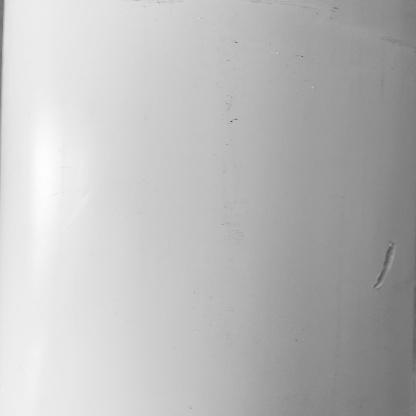sunshang: (365, 238, 400, 293)
